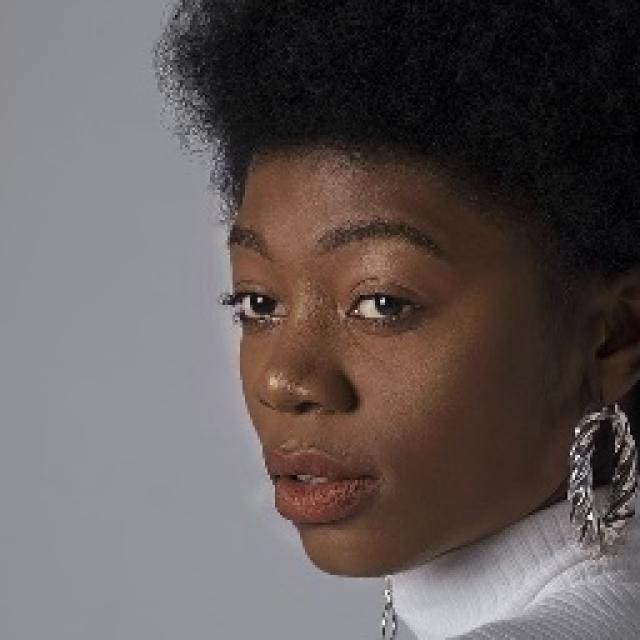no-glasses: (212, 269, 440, 351)
